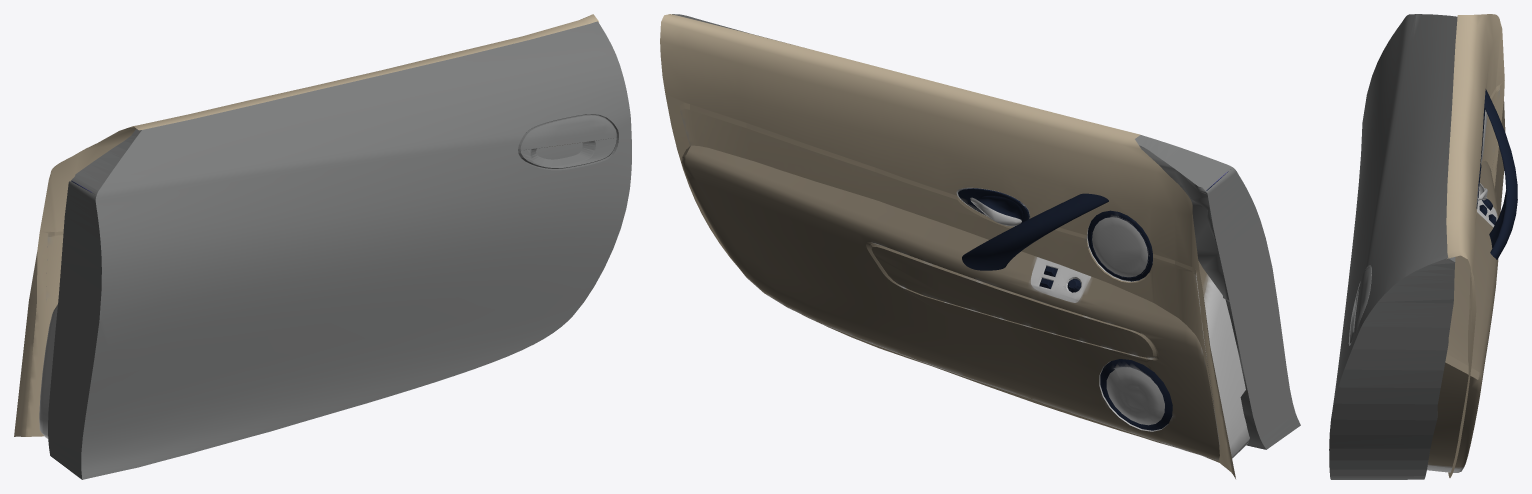
File: left_door.glb
The picture shows the model from 3 angles, left to right: view 1: azimuth 30°, elevation 25°; view 2: azimuth 150°, elevation 25°; view 3: azimuth 270°, elevation 25°; orthographic projection. The views are drawn at different scales.
Visible parts, largest first — view 1: left_door; view 2: left_door; view 3: left_door.
Part boxes in pixels (x1,y1,x2,y2): left_door: [14, 14, 631, 479]; left_door: [660, 14, 1300, 478]; left_door: [1329, 14, 1517, 479].
Bounding box in the file's own units: 29.71 × 14.94 × 7.81.
Materials: 1 (1 with a texture image).
